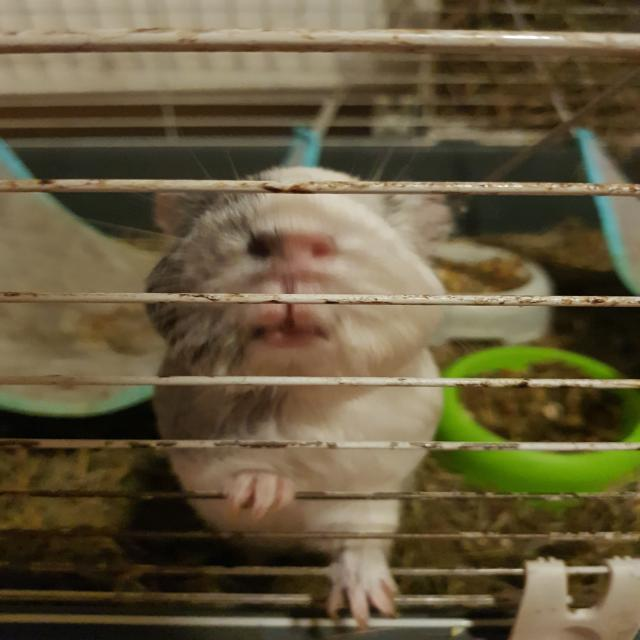guinea pig: (136, 164, 449, 639)
